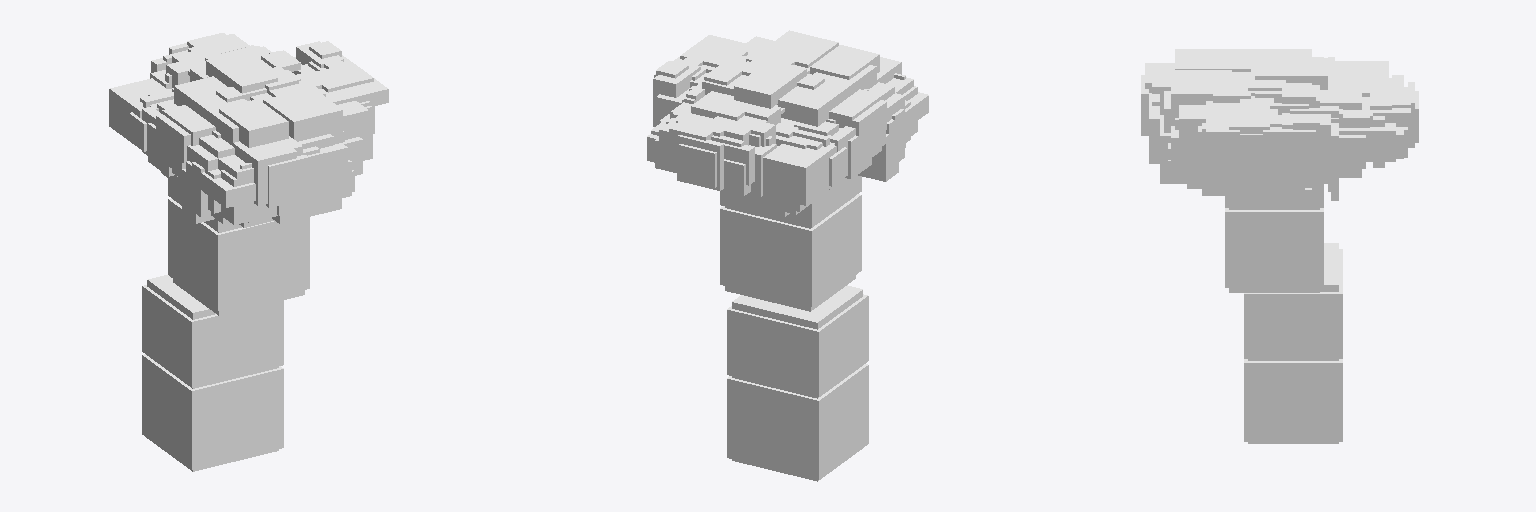
File: ArbolJungla.obj
3 renders of one model, left to right at view 1: azimuth 30°, elevation 25°; view 2: azimuth 150°, elevation 25°; view 3: azimuth 270°, elevation 25°, orthographic.
Visible parts, largest first — view 1: object 1; view 2: object 1; view 3: object 1.
Part boxes in pixels (x1,y1,x2,y2): object 1: (109,33,388,471); object 1: (647,30,928,481); object 1: (1141,49,1418,443).
Size of the model in its own units: 5.8 by 10.7 by 7.3.